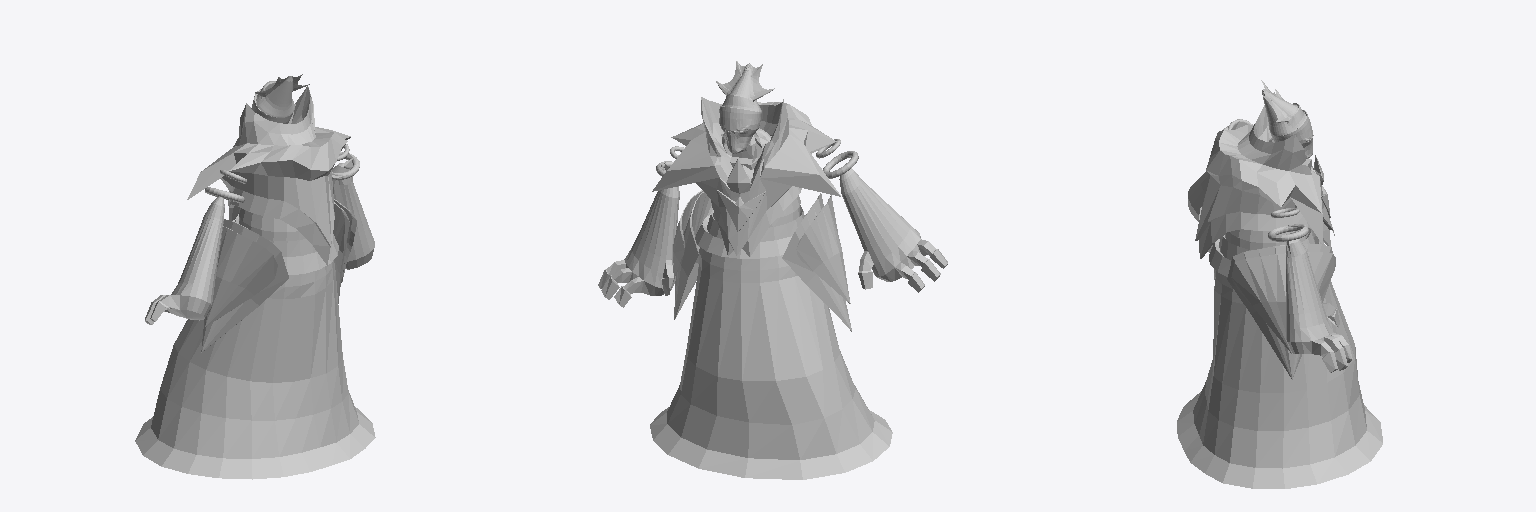
The model's file is RATH_IDLE_24FPS.0084.obj.
3 views of the same model, side by side, from view 1: azimuth 30°, elevation 25°; view 2: azimuth 150°, elevation 25°; view 3: azimuth 270°, elevation 25° (orthographic).
Parts seen in each view (by area): view 1: pasted__pasted__pTorus3; view 2: pasted__pasted__pTorus3; view 3: pasted__pasted__pTorus3.
Part boxes in pixels (x1,y1,x2,y2): pasted__pasted__pTorus3: (135, 74, 375, 479); pasted__pasted__pTorus3: (598, 61, 947, 479); pasted__pasted__pTorus3: (1177, 80, 1382, 488).
Bounding box in the file's own units: 141 × 174 × 89.07.